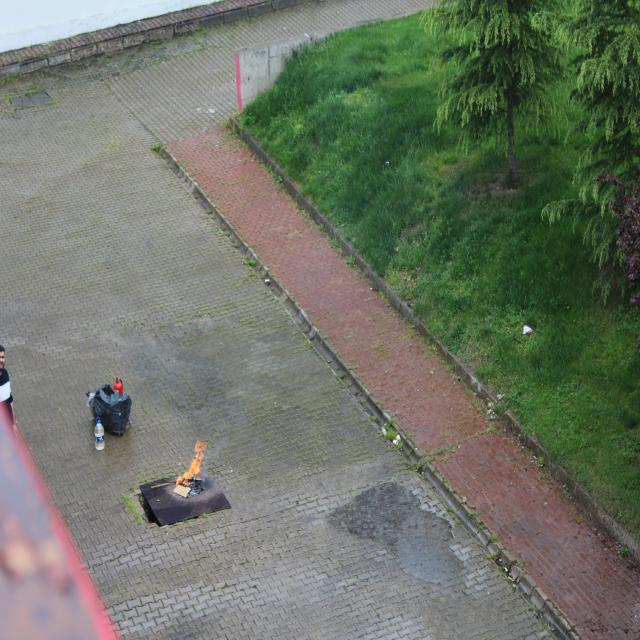fire: (165, 429, 221, 513)
